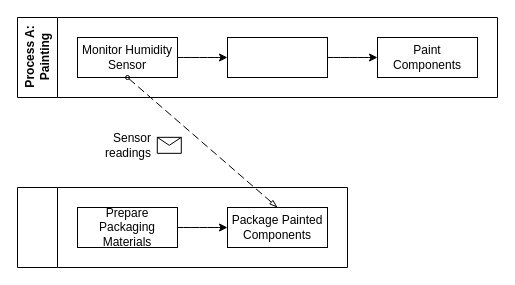
Some shapes in this 515 by 285 pixel diagram are drawn without their labels. Here are the shapes that lost their labels. From the top down, the box of each, then its label:
(226, 36, 328, 78): Adjust Paint Settings
(16, 186, 348, 268): Process B: Packaging
